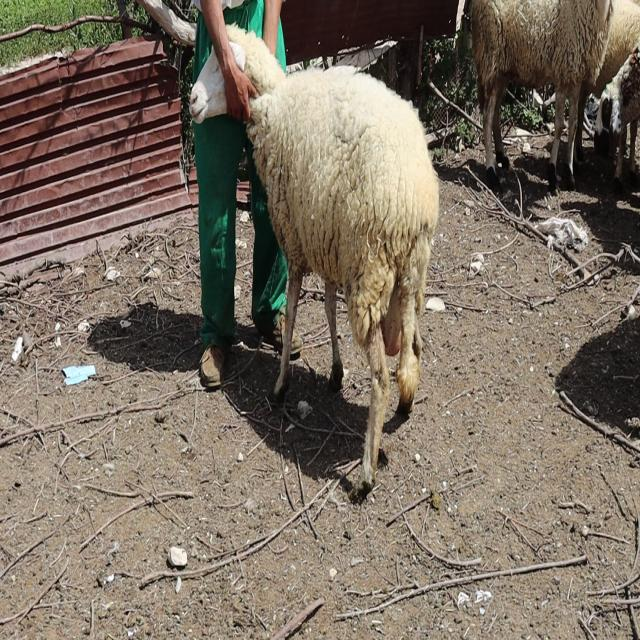Score_3: (225, 24, 439, 498)
